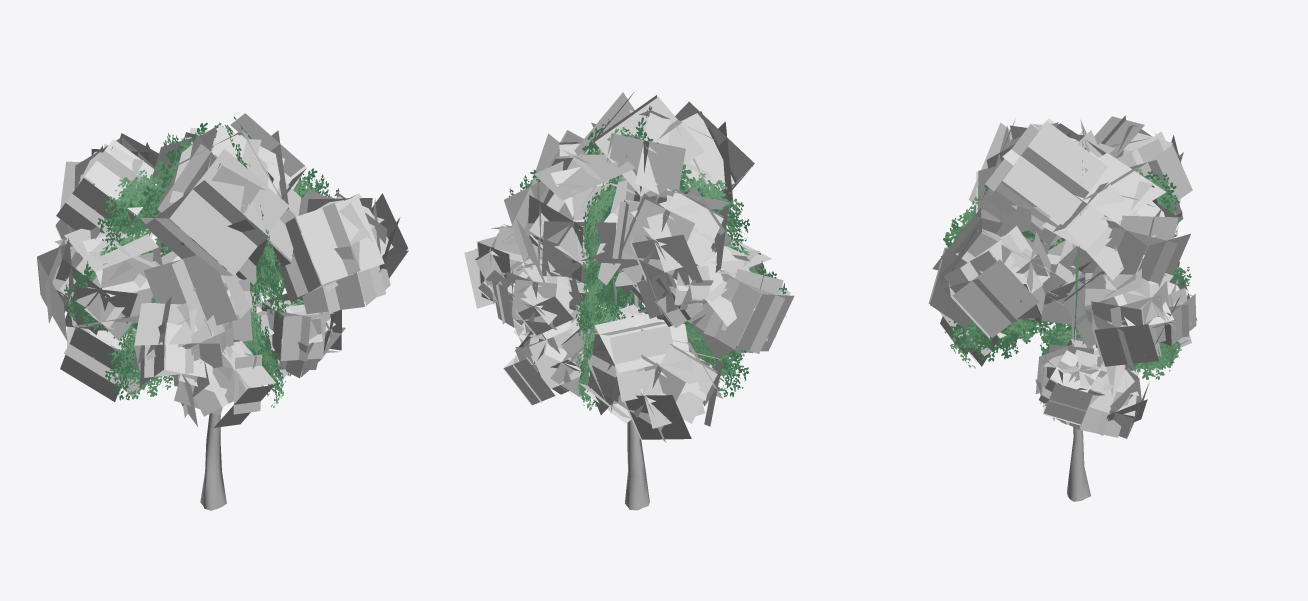
The model's file is OakTree2_MidBlend.fbx.
The picture shows the model from 3 angles, left to right: view 1: azimuth 30°, elevation 25°; view 2: azimuth 150°, elevation 25°; view 3: azimuth 270°, elevation 25°; orthographic projection. The views are drawn at different scales.
Parts seen in each view (by area): view 1: Tree3MidBlend; view 2: Tree3MidBlend; view 3: Tree3MidBlend.
Part boxes in pixels (left/top/right/bottom): Tree3MidBlend: left=37, top=113, right=408, bottom=510; Tree3MidBlend: left=464, top=90, right=794, bottom=510; Tree3MidBlend: left=928, top=115, right=1197, bottom=501.
Size of the model in its own units: 498 by 499 by 498.
